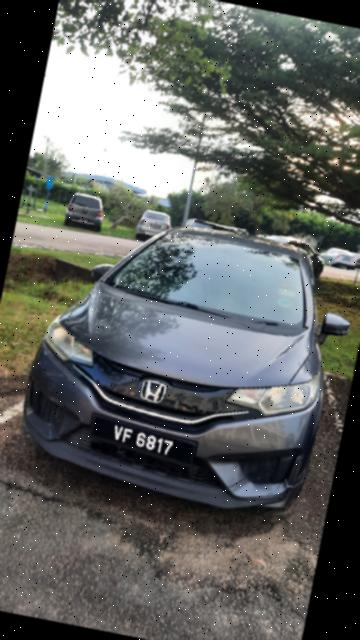License_Plate: (81, 409, 207, 475)
car: (9, 194, 360, 528)
